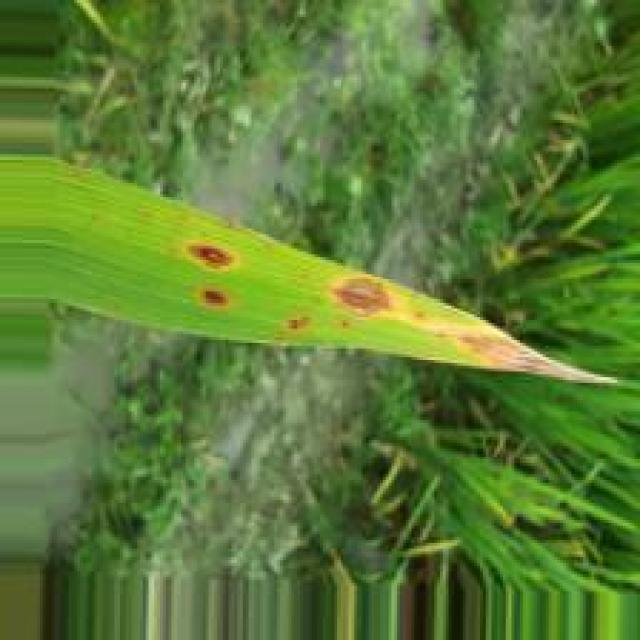Brown_Spot: (447, 328, 601, 382), (326, 268, 402, 322), (183, 236, 248, 276), (182, 283, 236, 317), (285, 318, 318, 333)
